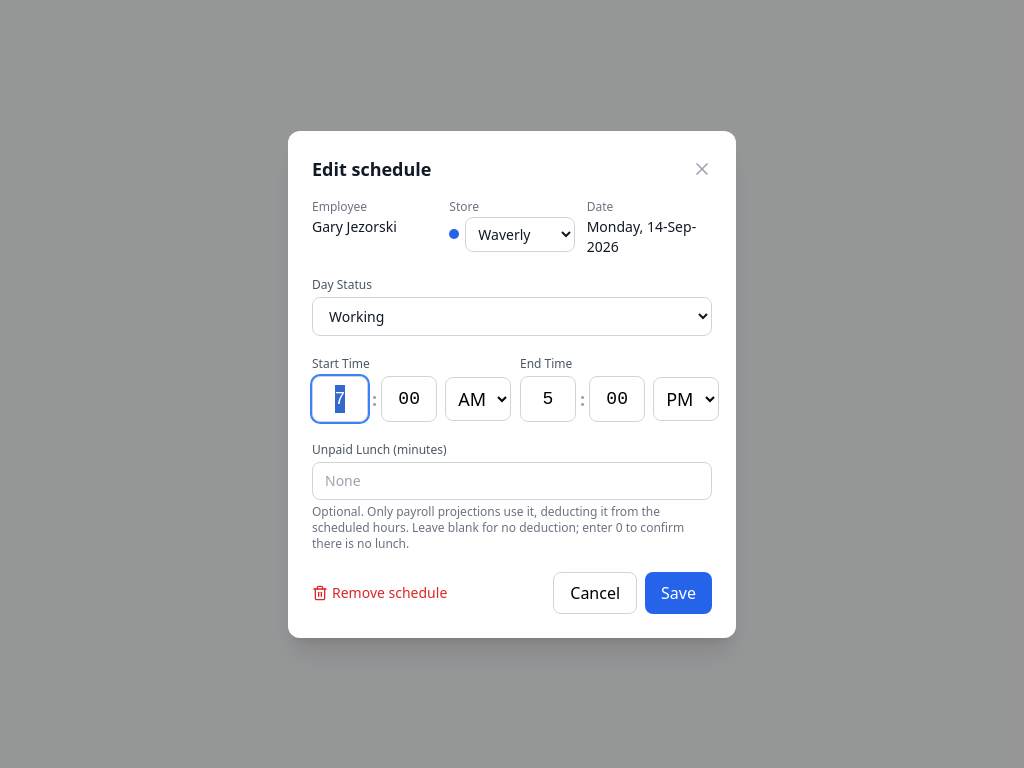
it: ScheduleCellModal — day status selector › warns before replacing existing work hours with a full-day status
The width and height of the screenshot is (1024, 768).
Select "Vacation" in the dropdown labelled "Day Status" at (512, 316), box [312,296,712,336]
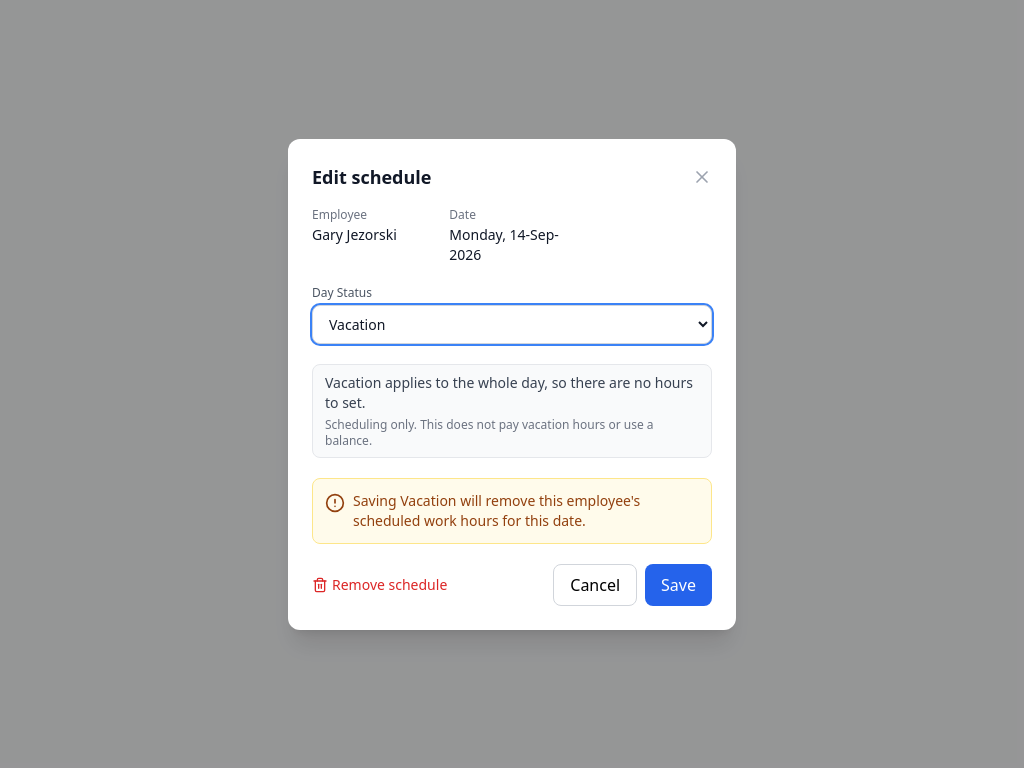
Check: the text "Saving Vacation will remove this employee's scheduled work hours for this date." is shown, box [353,490,640,530]
